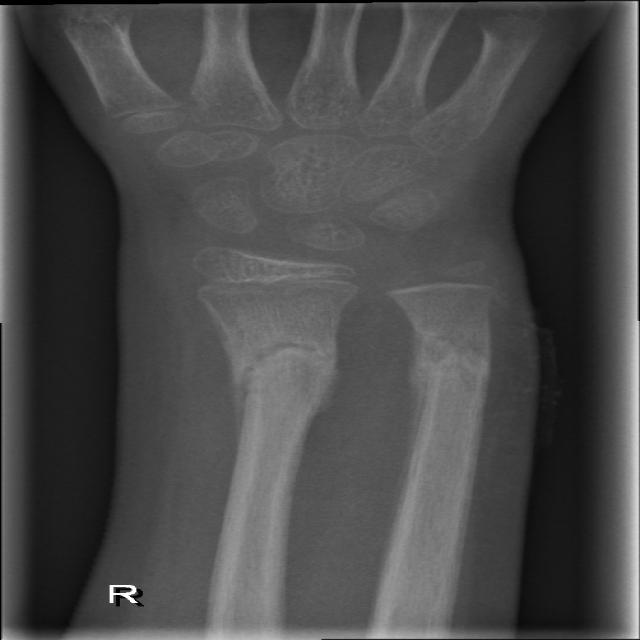radius fracture: (197, 314, 375, 448)
ulna fracture: (389, 317, 514, 457)
